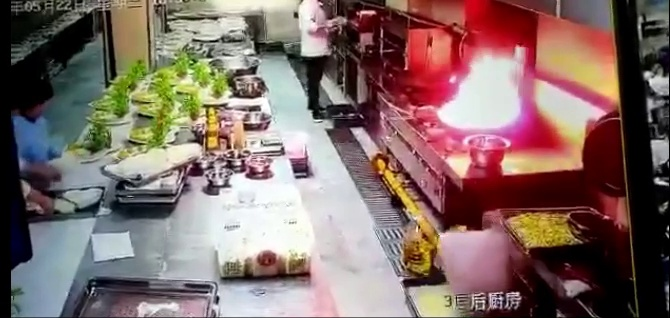fire: (447, 50, 531, 132)
